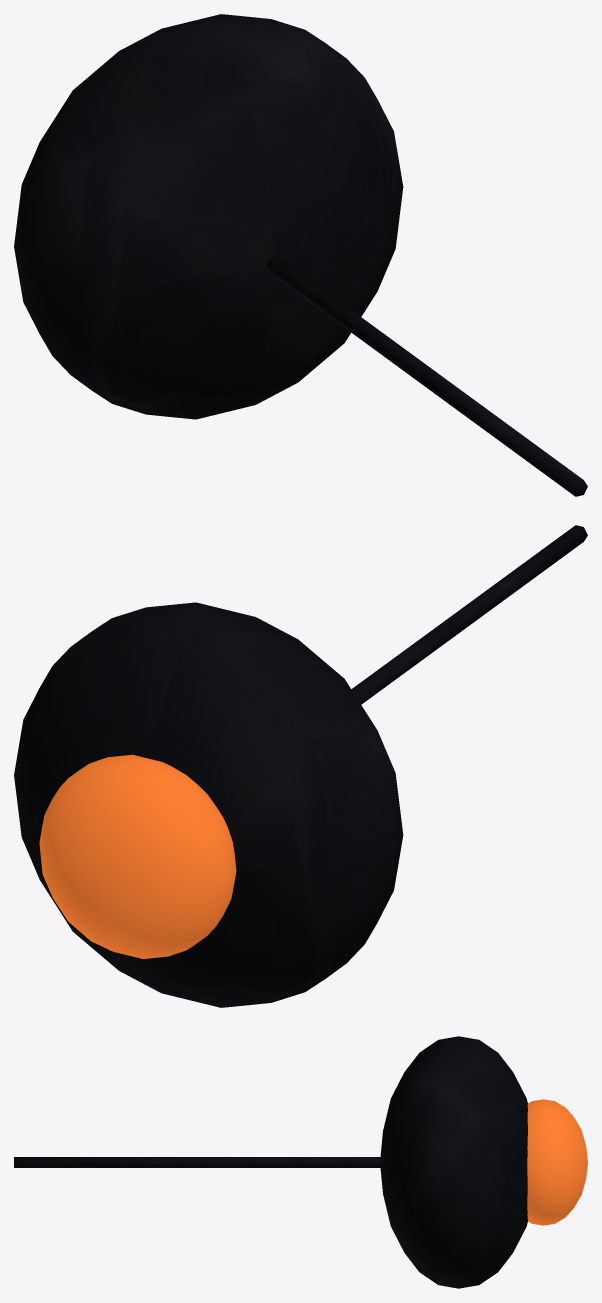
File: LIGHT_PENDANT_WARM_001.glb
The picture shows the model from 3 angles, top to bottom: view 1: azimuth 30°, elevation 25°; view 2: azimuth 150°, elevation 25°; view 3: azimuth 270°, elevation 25°; orthographic projection. The views are drawn at different scales.
Parts seen in each view (by area): view 1: shade_001, cord_000; view 2: shade_001, bulb_002, cord_000; view 3: shade_001, bulb_002, cord_000.
Part boxes in pixels (box(x1,y1,x2,y2)): shade_001: box(14, 14, 403, 419); cord_000: box(266, 256, 587, 496); shade_001: box(14, 602, 403, 1007); bulb_002: box(39, 754, 236, 958); cord_000: box(351, 525, 587, 704); shade_001: box(380, 1036, 527, 1288); bulb_002: box(527, 1099, 587, 1225); cord_000: box(14, 1157, 380, 1167).
Bounding box in the file's own units: 0.36 × 0.36 × 0.813.
2 materials, 2 textured.
